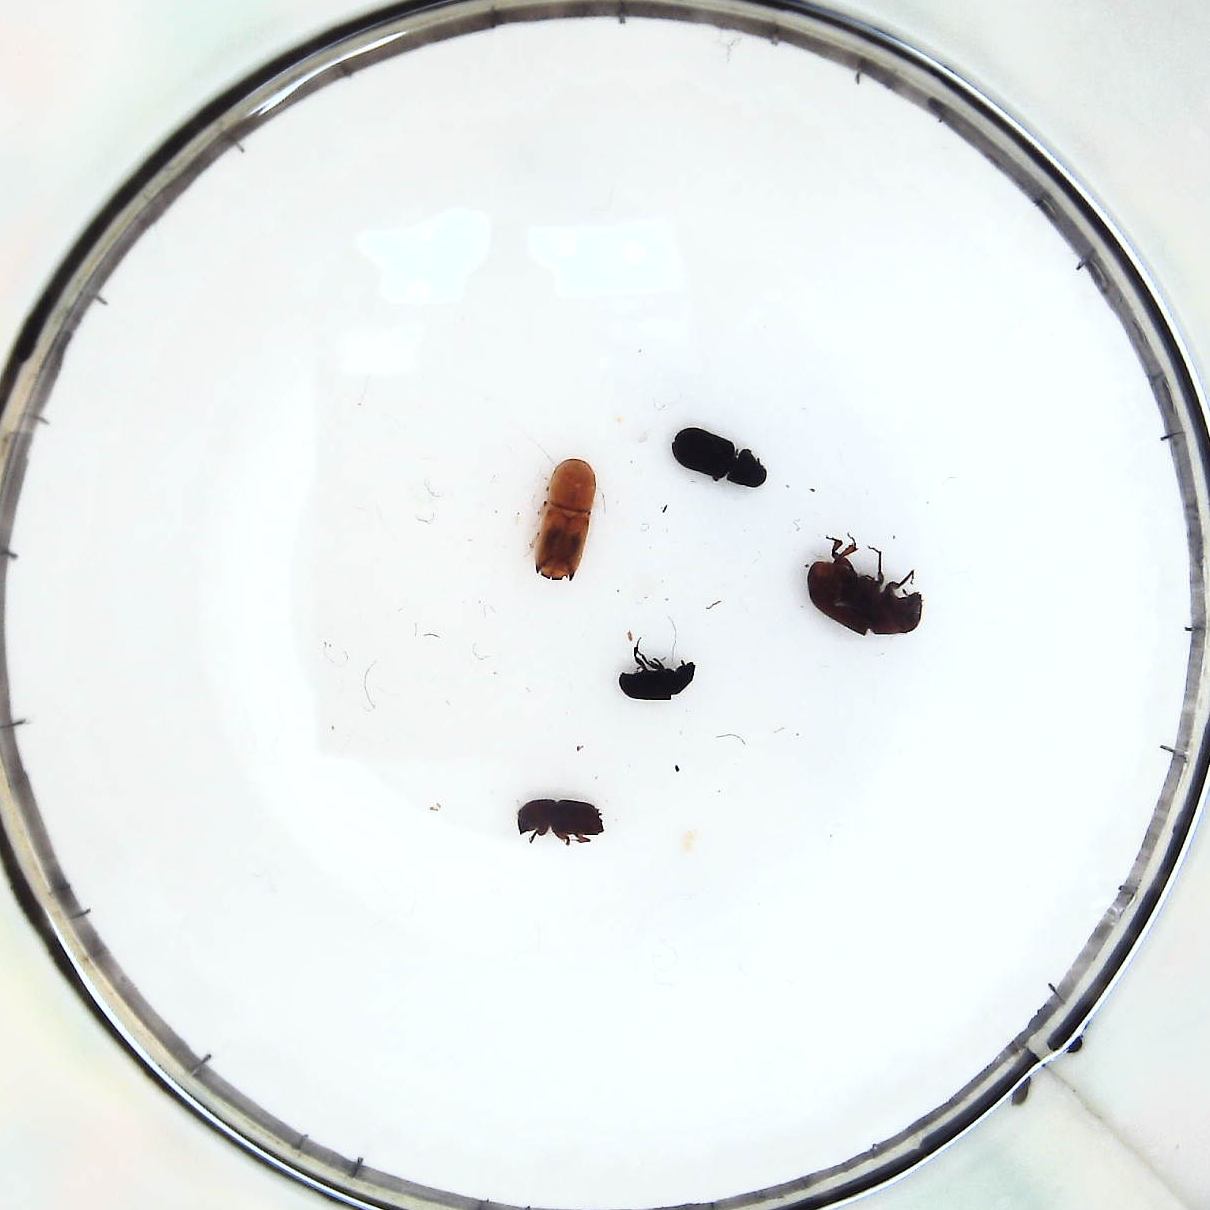Boerner: (534, 450, 595, 589)
Leconte: (808, 558, 923, 640)
Linnaeus: (513, 794, 604, 847)
armandi: (673, 425, 763, 495)
coleoptera: (617, 650, 693, 703)
